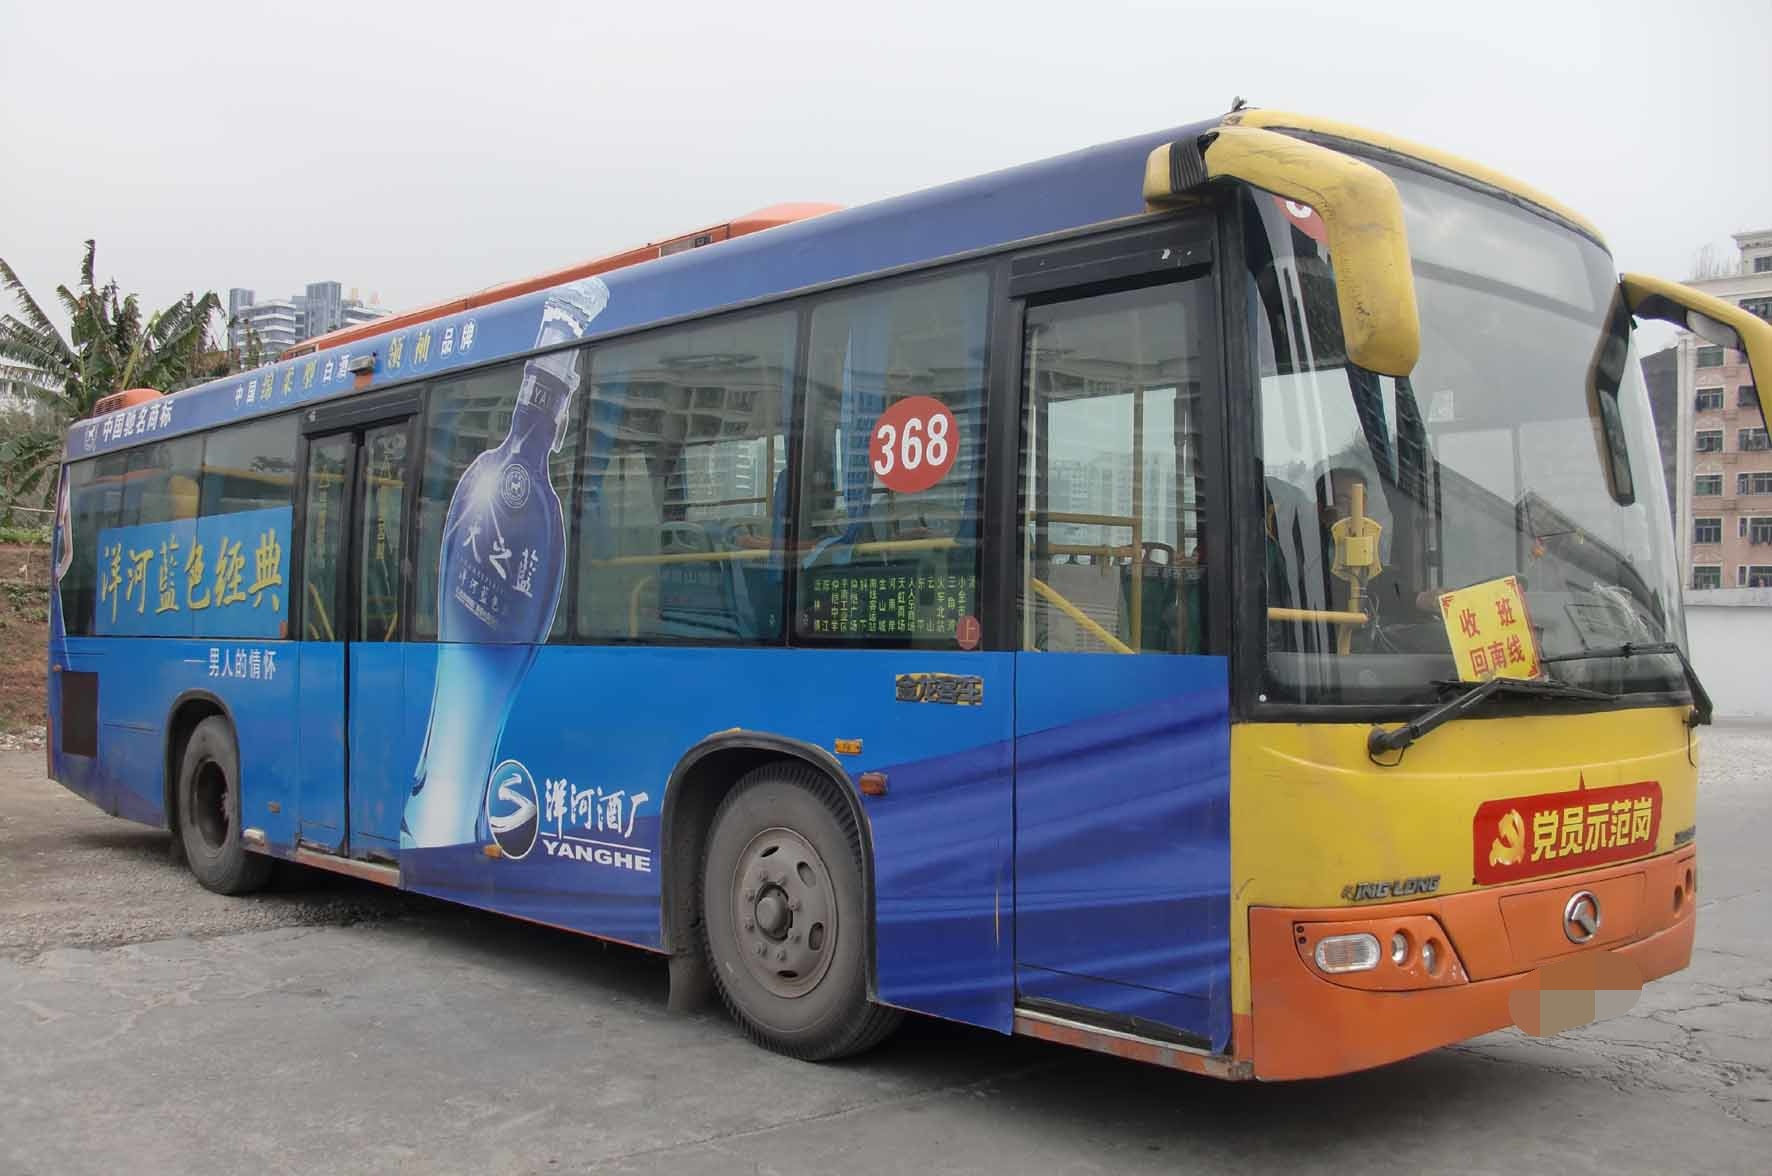bus: (34, 146, 1712, 1110)
